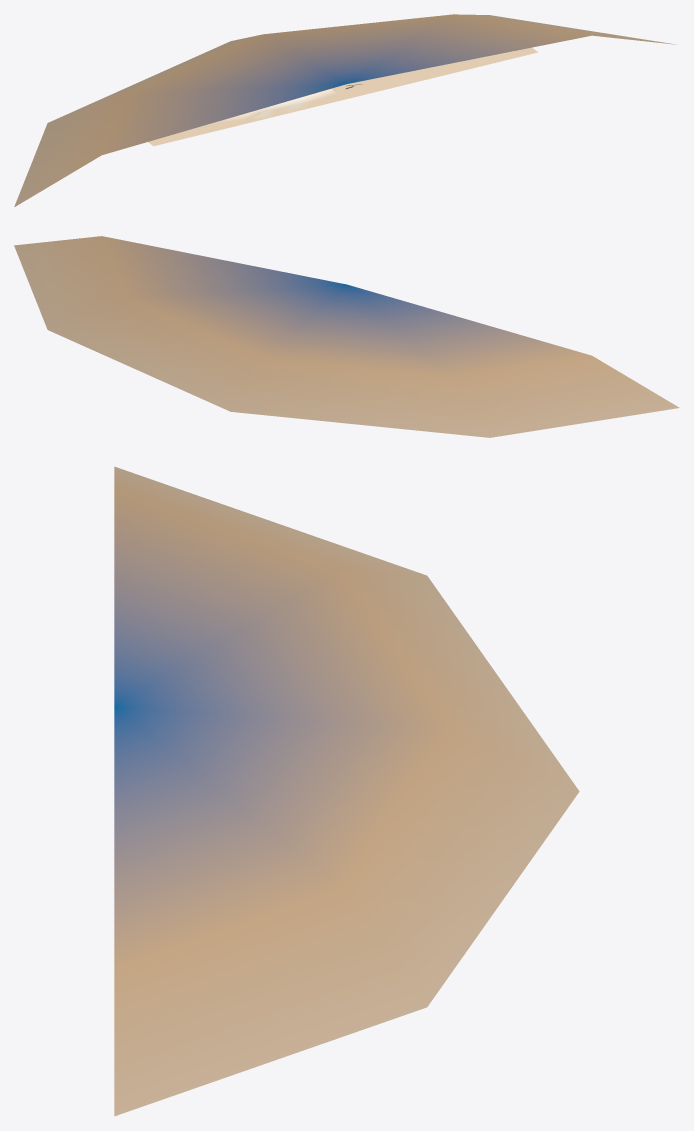
File: Desert_Bg.fbx
3 views of the same model, one above another, from view 1: azimuth 30°, elevation 25°; view 2: azimuth 150°, elevation 25°; view 3: azimuth 270°, elevation 25° (orthographic). The views are drawn at different scales.
Parts seen in each view (by area): view 1: LightBg_01, GroundBg_01; view 2: LightBg_01; view 3: LightBg_01.
Part boxes in pixels (x1=…): LightBg_01: x1=14, y1=14, x2=675, y2=206; GroundBg_01: x1=148, y1=47, x2=538, y2=146; LightBg_01: x1=14, y1=236, x2=679, y2=437; LightBg_01: x1=114, y1=466, x2=579, y2=1116.
Size of the model in its own units: 983996 by 59584 by 297667.
